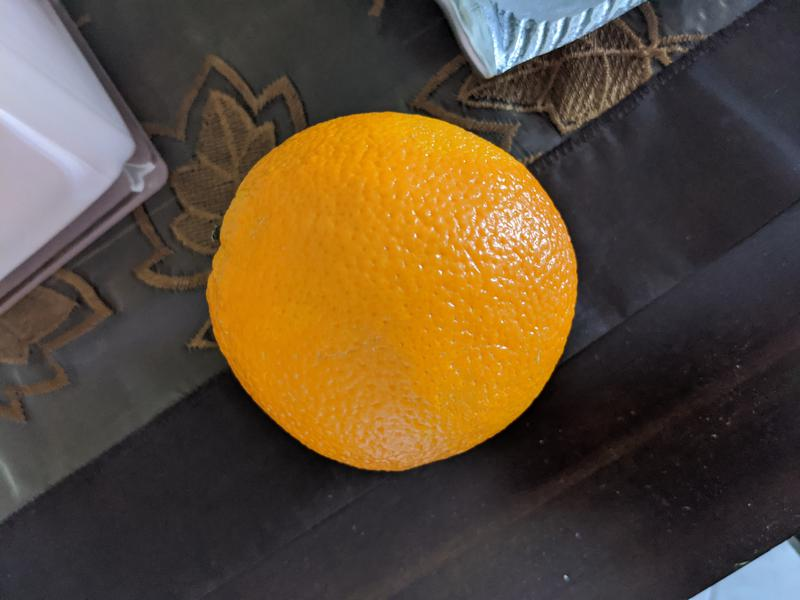orange: (205, 109, 579, 474)
